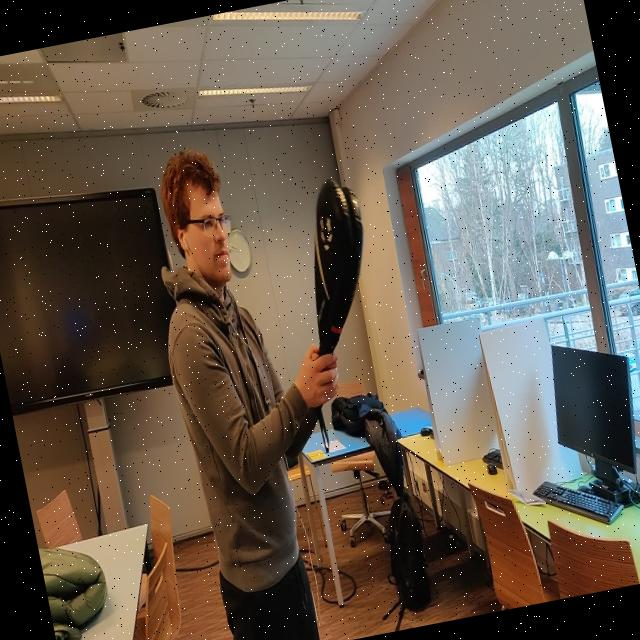paddle: (314, 178, 364, 355)
